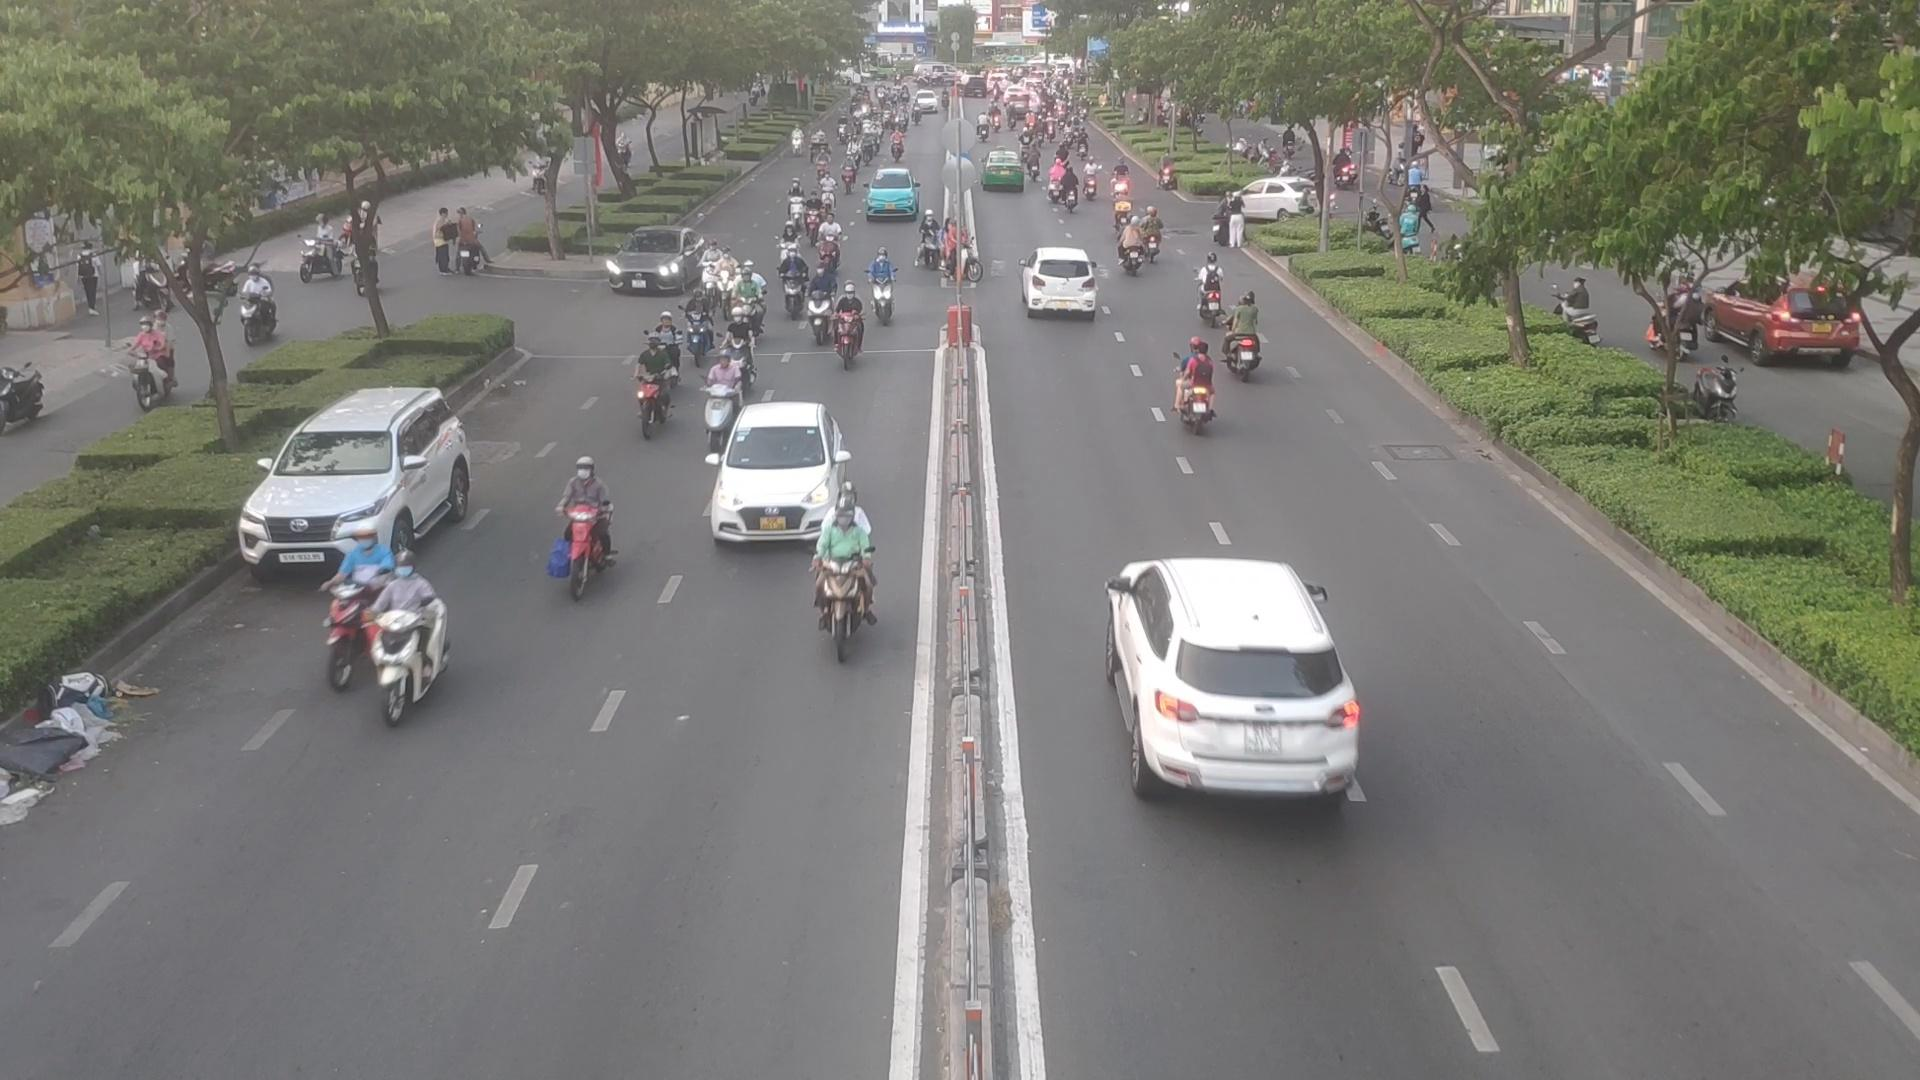car: (1100, 559, 1365, 804), (232, 380, 493, 579), (704, 404, 847, 546), (604, 229, 727, 298), (1025, 245, 1102, 318), (1229, 178, 1311, 224), (862, 170, 923, 225), (977, 146, 1025, 193)
motorbike: (313, 518, 400, 667), (812, 487, 880, 669), (381, 560, 450, 731), (551, 454, 626, 601), (1164, 340, 1218, 433), (630, 347, 673, 435), (1230, 287, 1263, 398), (835, 285, 872, 378), (935, 222, 992, 278), (651, 313, 684, 396), (719, 311, 752, 393), (705, 353, 737, 438), (860, 248, 895, 322), (682, 289, 711, 368), (736, 262, 764, 339), (713, 251, 742, 316), (1197, 256, 1224, 327), (1116, 216, 1145, 277), (810, 266, 832, 343), (1139, 206, 1164, 266), (698, 237, 717, 305), (785, 249, 802, 324), (918, 214, 939, 269), (779, 223, 806, 262), (822, 218, 844, 262), (1044, 157, 1065, 203), (1155, 162, 1180, 196), (787, 179, 804, 224), (1110, 160, 1127, 204), (1064, 167, 1079, 218), (822, 171, 837, 210), (807, 193, 818, 244), (1117, 196, 1130, 235), (1085, 158, 1097, 199)
